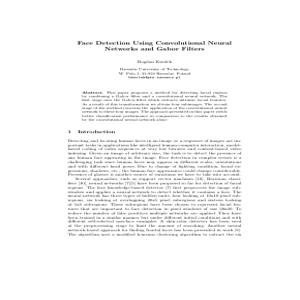text: (64, 59, 241, 237), (77, 37, 234, 54)
